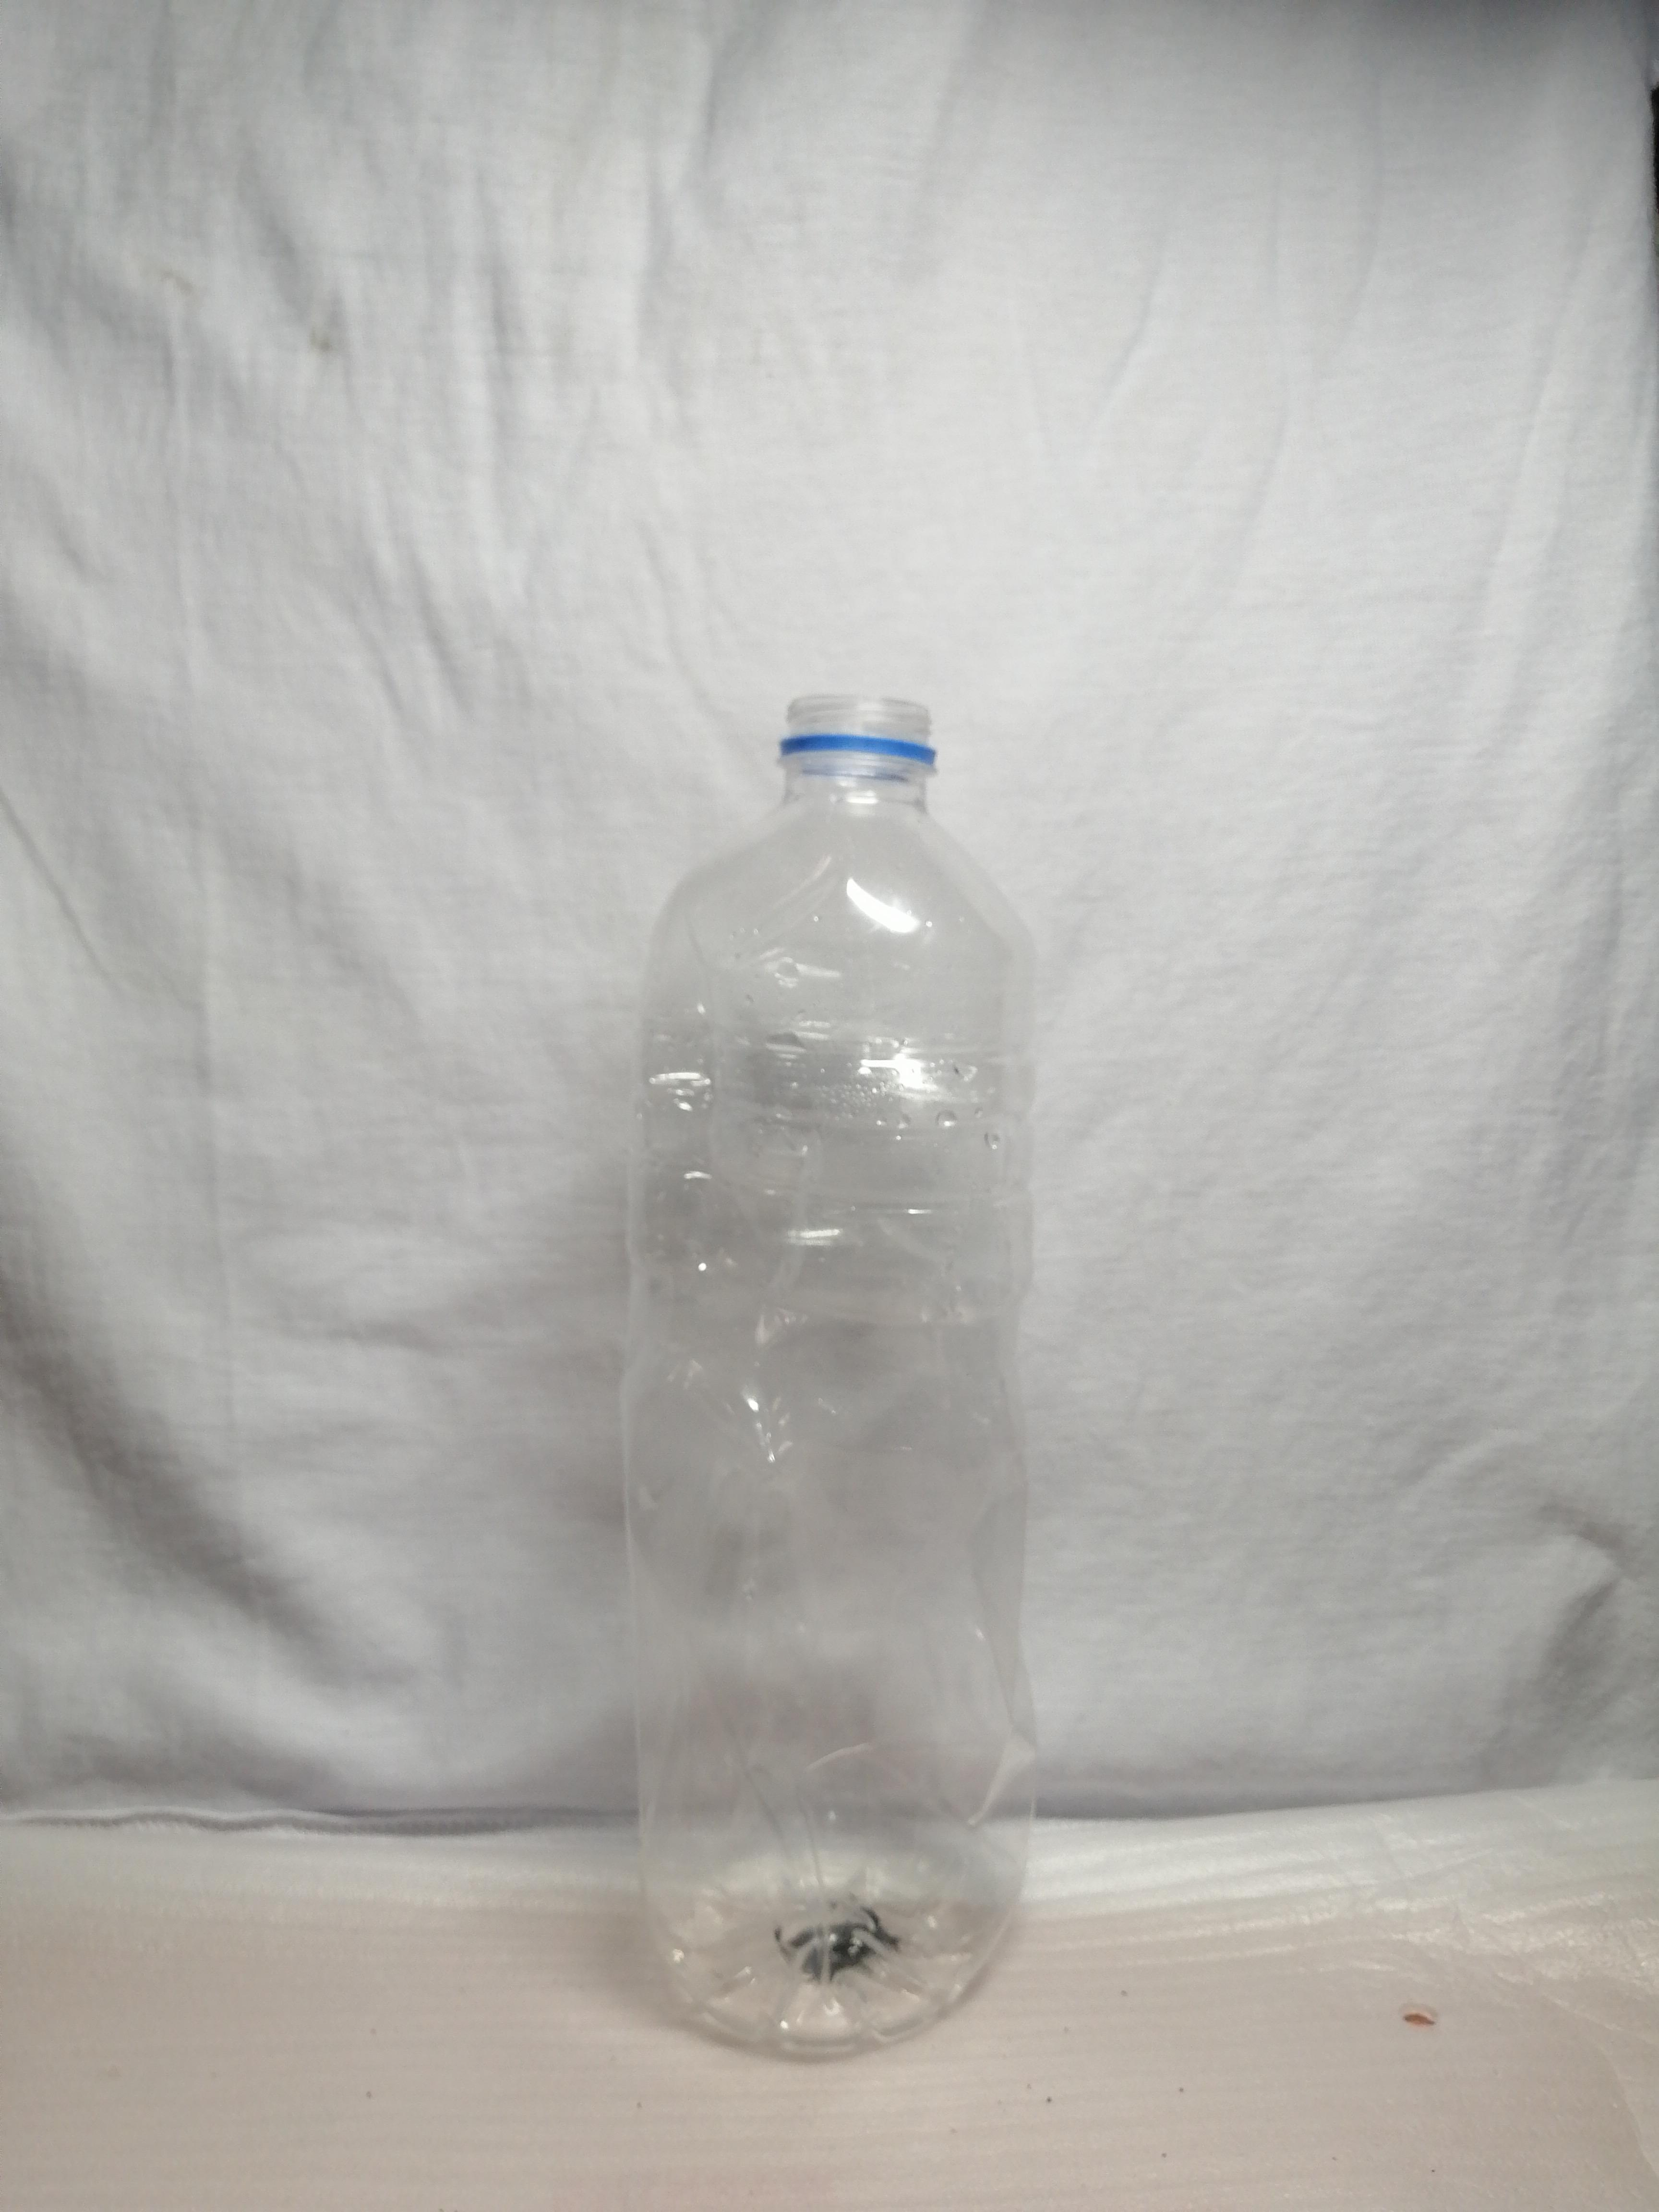plastic-bottle: (571, 629, 1080, 2098)
